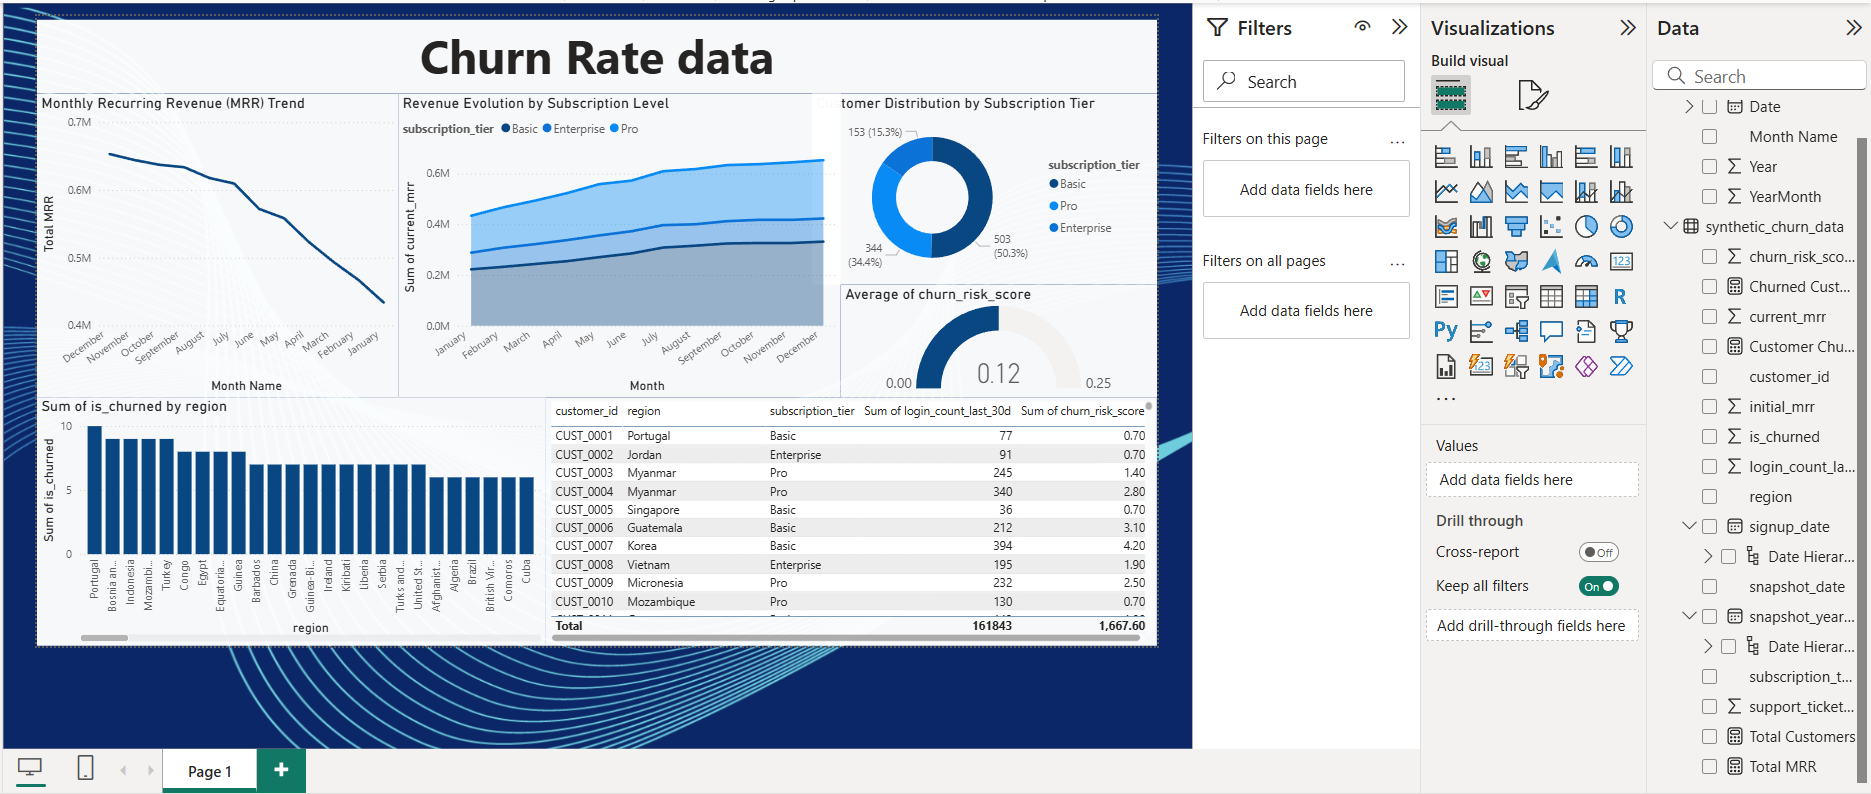

This screenshot's page, from the dashboard's own definition file:
{"tool":"powerbi","page":{"name":"Page 1","canvas":[1280,720],"ordinal":0},"visuals":[{"type":"lineChart","title":"Monthly Recurring Revenue (MRR) Trend","fields":{"Y":["synthetic_churn_data.Total MRR"],"Category":["DimDate.Month Name"]},"box":[0,88.6,412.9,347.1],"z":0},{"type":"donutChart","title":"Customer Distribution by Subscription Tier","fields":{"Y":["synthetic_churn_data.Total Customers"],"Category":["synthetic_churn_data.subscription_tier"]},"box":[885.7,88.6,394.3,218.6],"z":1000},{"type":"gauge","fields":{"Y":["Avg(synthetic_churn_data.churn_risk_score)"]},"box":[918.6,307.1,361.4,128.6],"z":2000},{"type":"tableEx","fields":{"Values":["synthetic_churn_data.customer_id","synthetic_churn_data.region","synthetic_churn_data.subscription_tier","Sum(synthetic_churn_data.login_count_last_30d)","Sum(synthetic_churn_data.churn_risk_score)"]},"box":[581.4,435.7,698.6,284.3],"z":3000},{"type":"columnChart","fields":{"Category":["synthetic_churn_data.region"],"Y":["Sum(synthetic_churn_data.is_churned)"]},"box":[0,435.7,581.4,284.3],"z":4000},{"type":"textbox","box":[0,4.3,1280,84.3],"z":5000},{"type":"stackedAreaChart","title":"Revenue Evolution by Subscription Level","fields":{"Category":["synthetic_churn_data.snapshot_yearmonth.Variation.Date Hierarchy.Month","synthetic_churn_data.snapshot_yearmonth.Variation.Date Hierarchy.Day"],"Y":["Sum(synthetic_churn_data.current_mrr)"],"Series":["synthetic_churn_data.subscription_tier"]},"box":[412.9,88.6,505.7,347.1],"z":6000}]}

Visuals, with their boxes on the page's 1280x720 design canvas (x1, y1, x2, y2). These are canvas units, not pixel positions in the 1871x794 screenshot, which may show the page scaled, cropped or inside an application window:
"Monthly Recurring Revenue (MRR) Trend" lineChart: l=0, t=89, r=413, b=436
"Customer Distribution by Subscription Tier" donutChart: l=886, t=89, r=1280, b=307
gauge - Avg(synthetic_churn_data.churn_risk_score): l=919, t=307, r=1280, b=436
tableEx - synthetic_churn_data.customer_id x synthetic_churn_data.region: l=581, t=436, r=1280, b=720
columnChart - synthetic_churn_data.region x Sum(synthetic_churn_data.is_churned): l=0, t=436, r=581, b=720
textbox: l=0, t=4, r=1280, b=89
"Revenue Evolution by Subscription Level" stackedAreaChart: l=413, t=89, r=919, b=436
